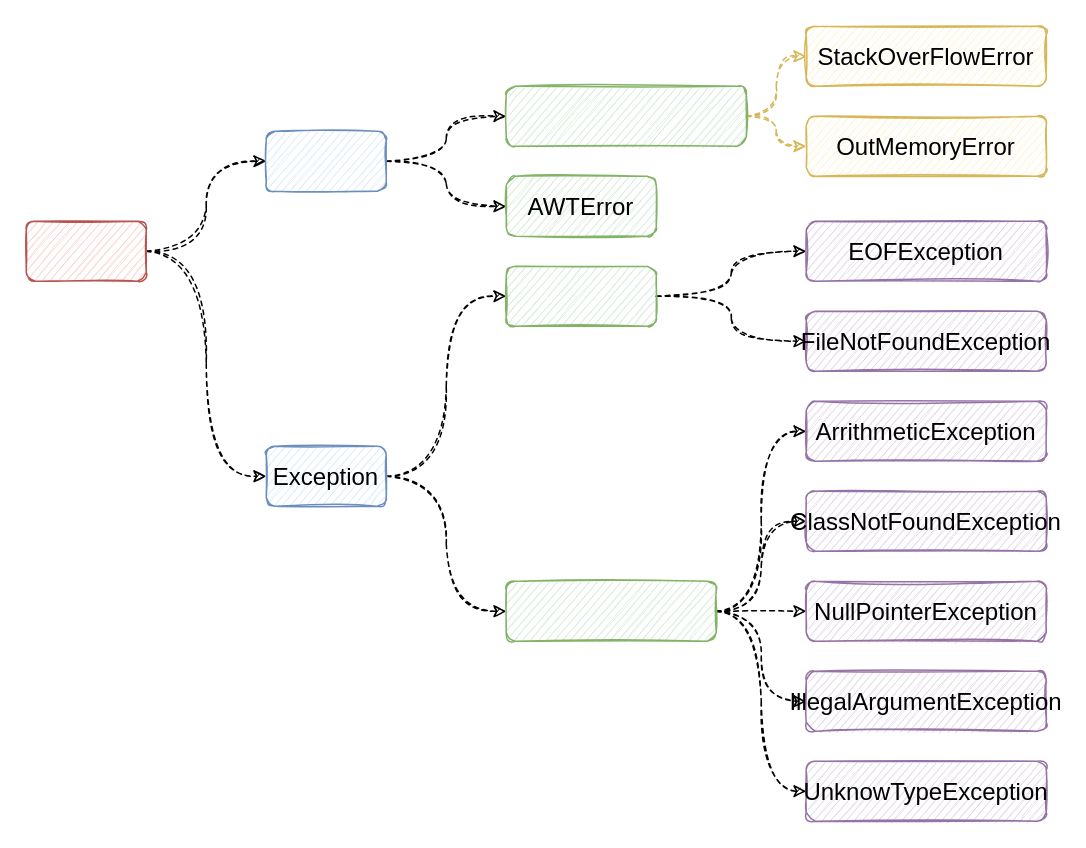
This 1086x848 diagram has some shape labels left out. Each missing label, with the centre of its shape:
"Error" belongs at pixel 325 160.
"IOException" belongs at pixel 580 295.
"RuntimeException" belongs at pixel 610 610.
"Throwable" belongs at pixel 85 250.
"VirtulMachineError" belongs at pixel 625 115.
